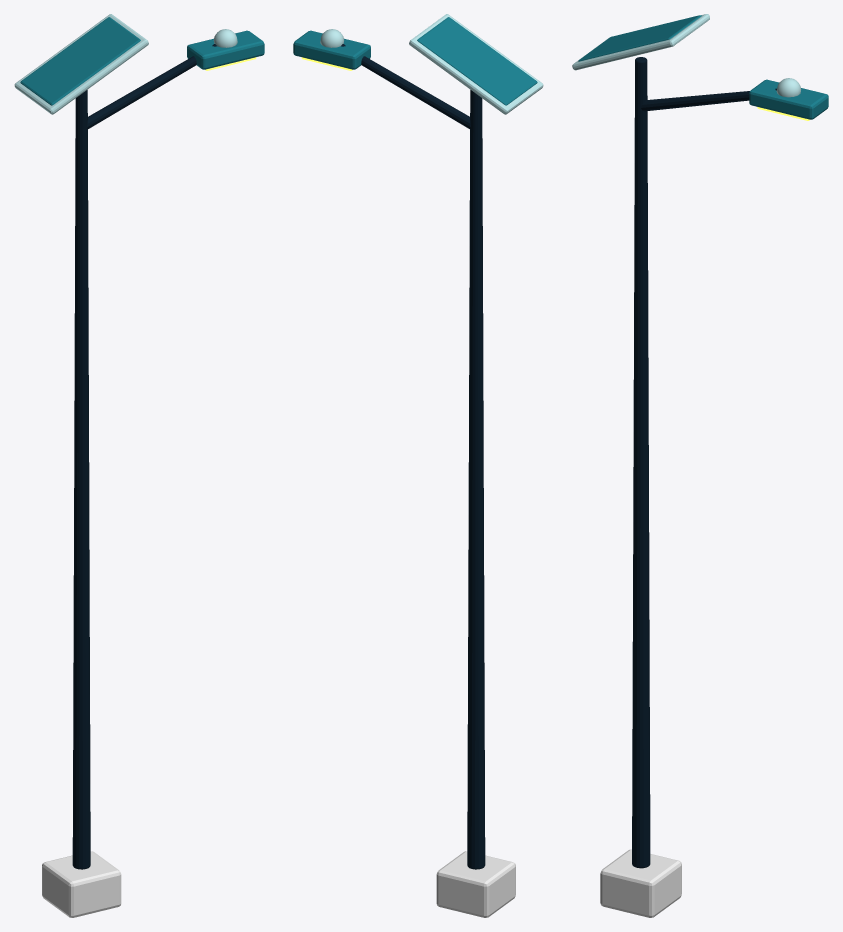
File: pju_smart.glb
3 renders of one model, left to right at view 1: azimuth 30°, elevation 25°; view 2: azimuth 150°, elevation 25°; view 3: azimuth 330°, elevation 25°, orthographic. The views are drawn at different scales.
Parts seen in each view (by area): view 1: pju_smart; view 2: pju_smart; view 3: pju_smart.
Boxes of the visible parts, box(x1,y1,x2,y2) form: pju_smart: box(14, 14, 264, 917); pju_smart: box(293, 14, 543, 917); pju_smart: box(572, 14, 828, 917).
Bounding box in the file's own units: 2.58 × 9.46 × 0.74.
